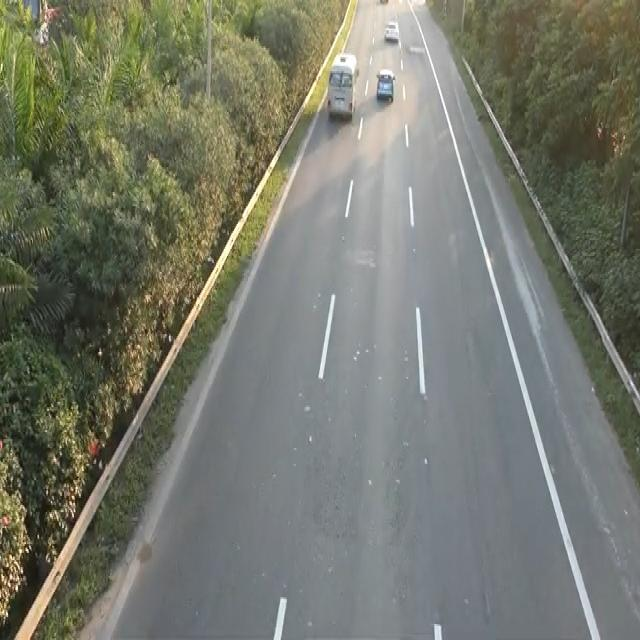bus: (375, 66, 395, 103), (383, 18, 399, 41)
jeep: (325, 49, 359, 122)
